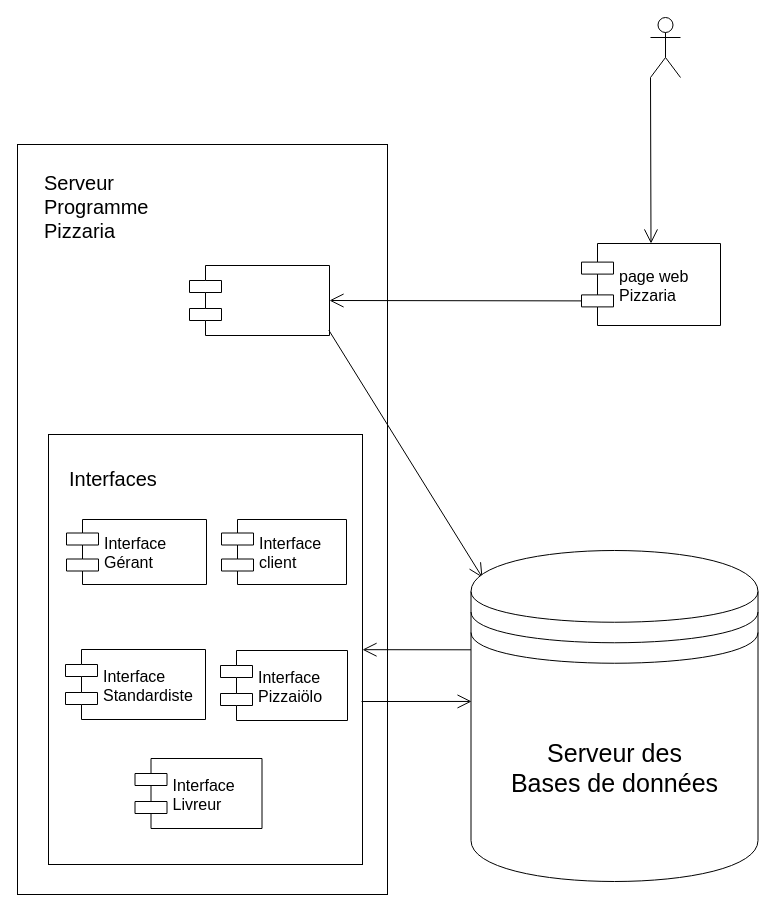
Image size: 776x912. Some labels were removed from this diagram. Here are the shapes that lost their labels. From the top down, the centre of each, then its label:
At pixel 665 47: "User".
At pixel 259 300: "Connexion compte".
